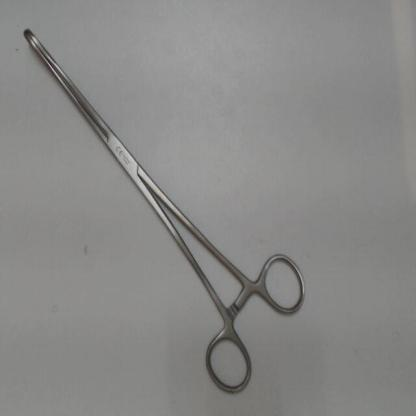Sponge Forceps: (20, 23, 313, 402)
